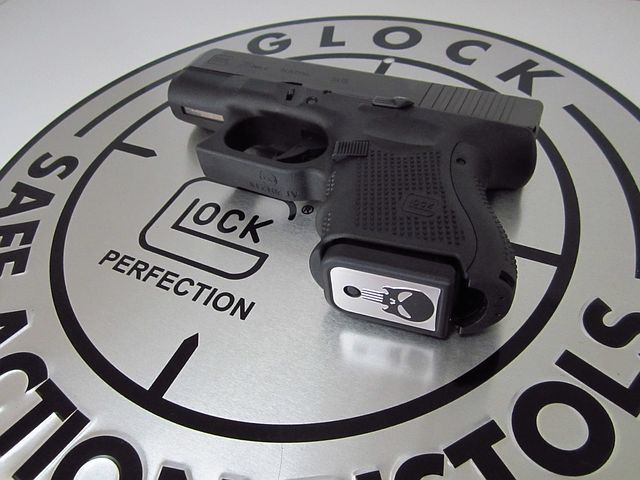gun: (159, 43, 559, 343)
